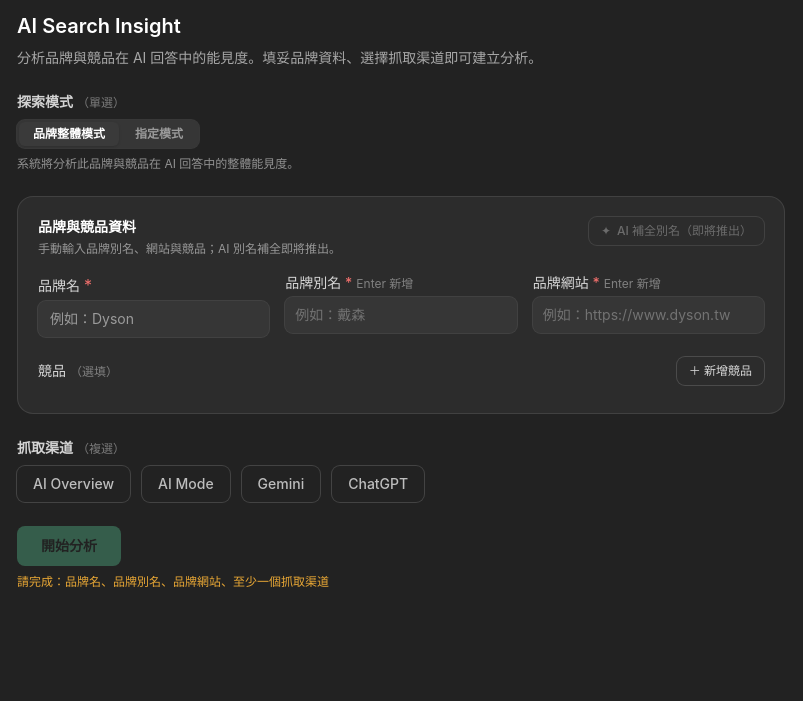
Test: TC-61 · 品牌檔案卡 (品牌名 / 別名 chips / 網站 chips / 競品 / ✦ AI 別名補全 roadmap) › appends a competitor row on 新增競品 (no separate add button)
Click the button "＋ 新增競品".
click(720, 371)  # box x1=677 y1=357 x2=764 y2=385
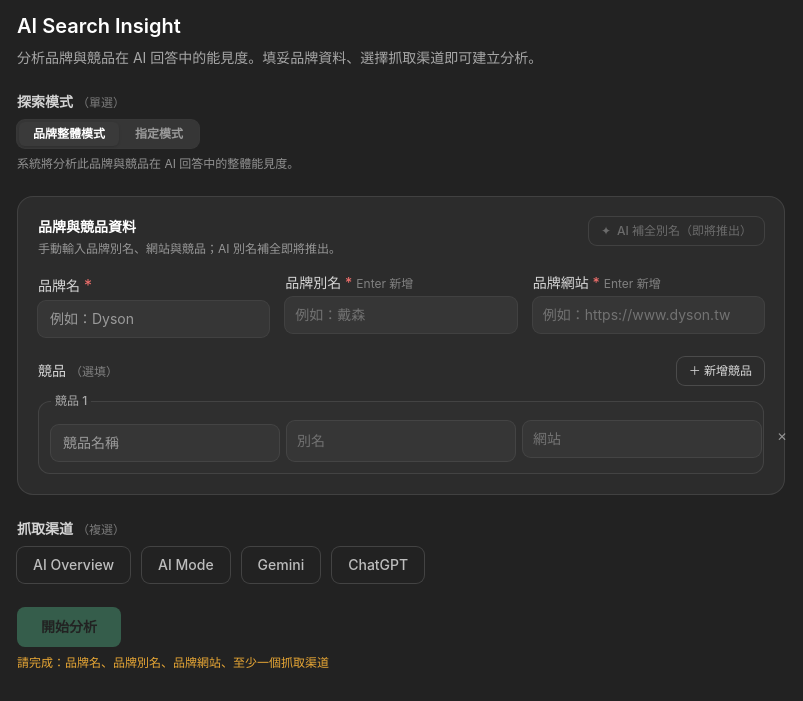
Now the field named "競品 1 名稱" is shown, box x1=51 y1=425 x2=279 y2=461
Click the button "＋ 新增競品".
click(720, 371)  # box x1=677 y1=357 x2=764 y2=385
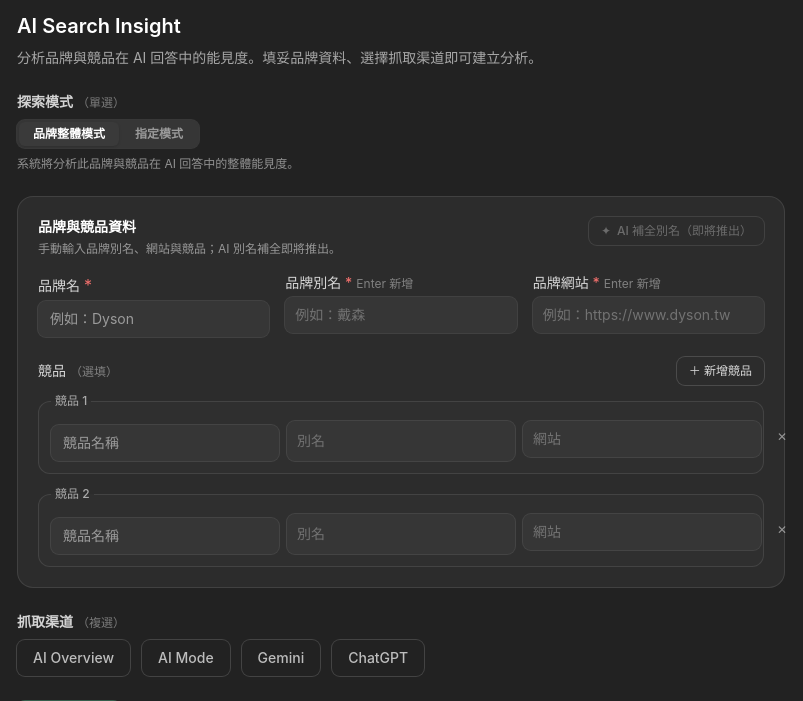
Now the field named "競品 2 名稱" is shown, box x1=51 y1=518 x2=279 y2=554
